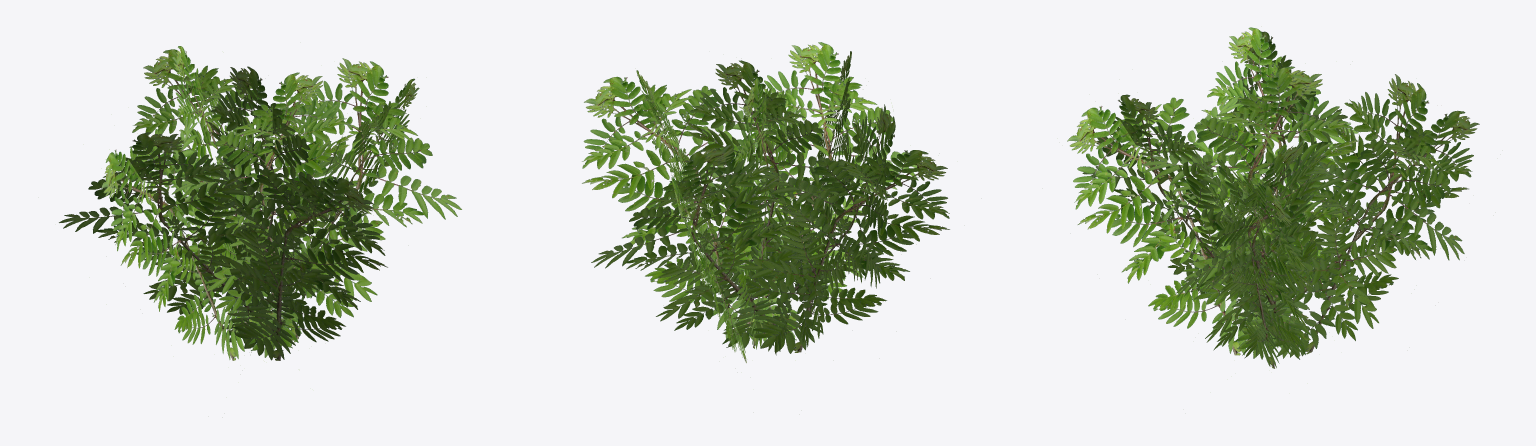
File: bush9.FBX
3 views of the same model, side by side, from view 1: azimuth 30°, elevation 25°; view 2: azimuth 150°, elevation 25°; view 3: azimuth 270°, elevation 25° (orthographic). The views are drawn at different scales.
Visible parts, largest first — view 1: bush9; view 2: bush9; view 3: bush9.
Part boxes in pixels (x1=…): bush9: x1=59, y1=46, x2=461, y2=360; bush9: x1=582, y1=42, x2=949, y2=362; bush9: x1=1067, y1=27, x2=1479, y2=368.
Size of the model in its own units: 5.3 by 4.02 by 5.31.
